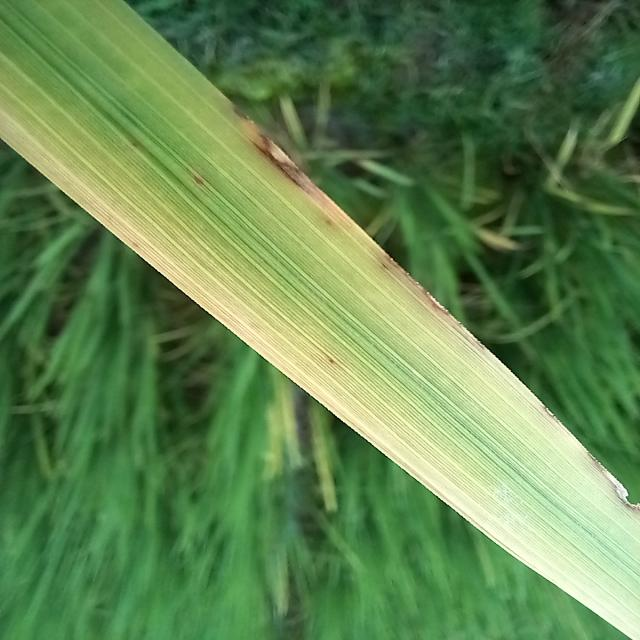Leaf_Blast: (246, 125, 356, 241)
